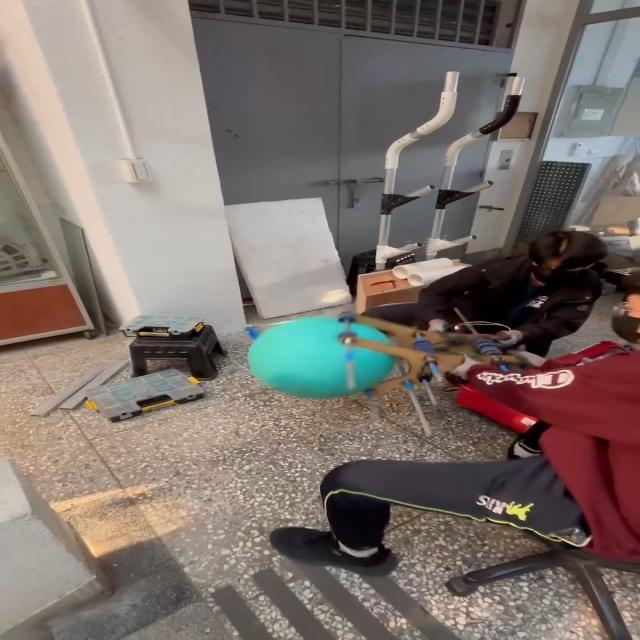ALGAE: (245, 315, 398, 400)
